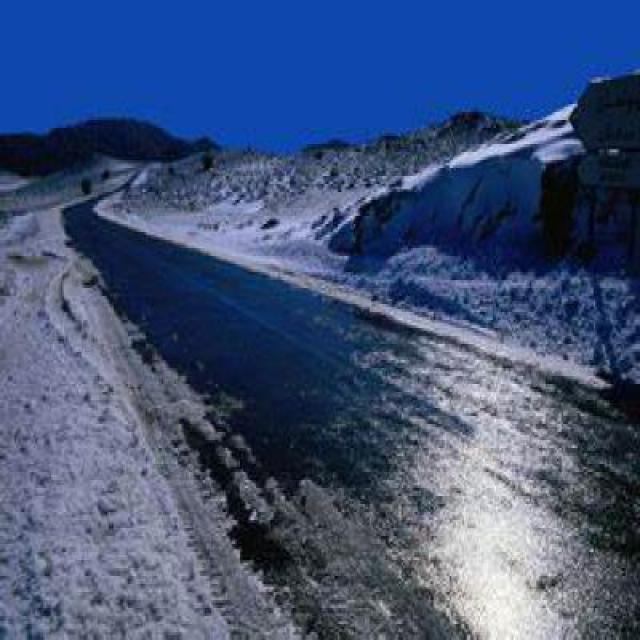ice-road: (64, 205, 640, 640)
